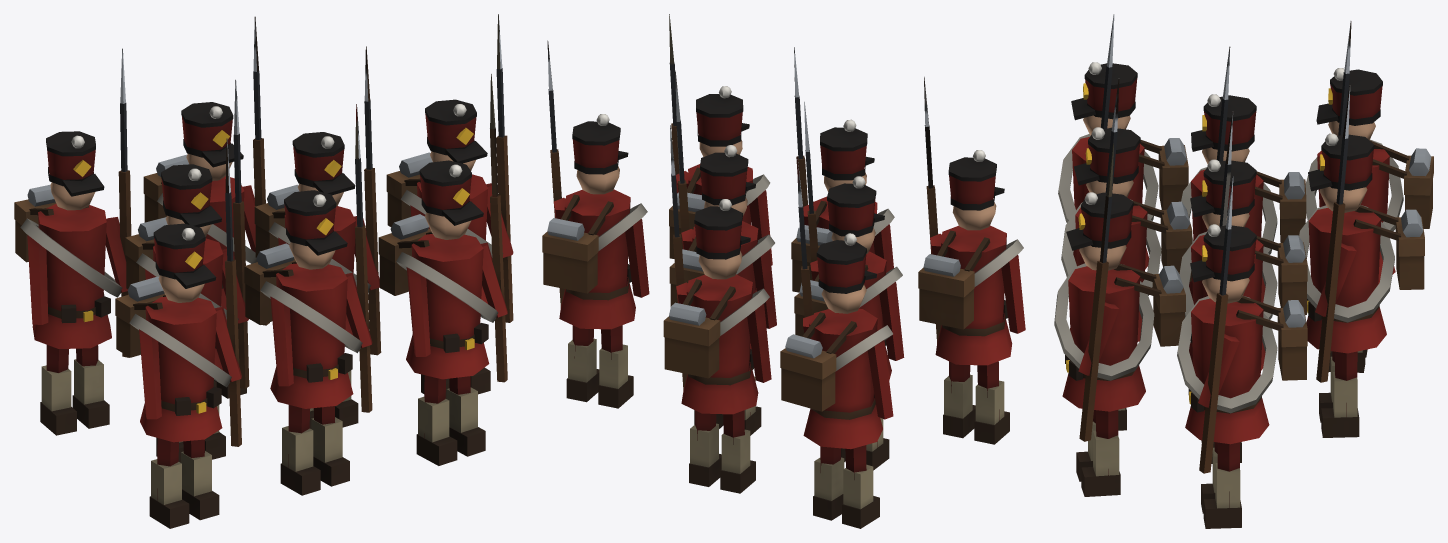
The model's file is squad_dl5_red.glb.
3 views of the same model, side by side, from view 1: azimuth 30°, elevation 25°; view 2: azimuth 150°, elevation 25°; view 3: azimuth 270°, elevation 25° (orthographic). The views are drawn at different scales.
Parts seen in each view (by area): view 1: squad_dl5_red; view 2: squad_dl5_red; view 3: squad_dl5_red.
Part boxes in pixels (left/top/right/bottom): squad_dl5_red: left=14, top=14, right=513, bottom=528; squad_dl5_red: left=542, top=14, right=1025, bottom=528; squad_dl5_red: left=1054, top=14, right=1433, bottom=528.
Size of the model in its own units: 0.6466 by 0.5225 by 0.4949.
Materials: 1 (1 with a texture image).
